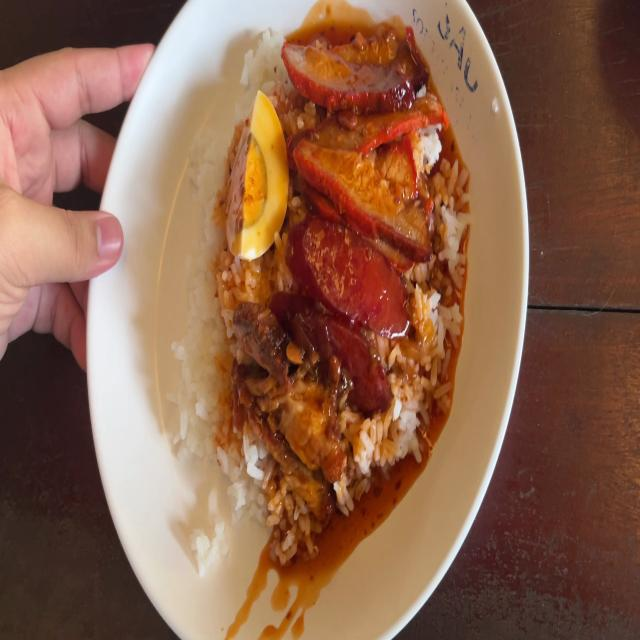red_pork_and_crispy_pork: (228, 93, 280, 255)
stir_fried_basil: (289, 213, 399, 396)
